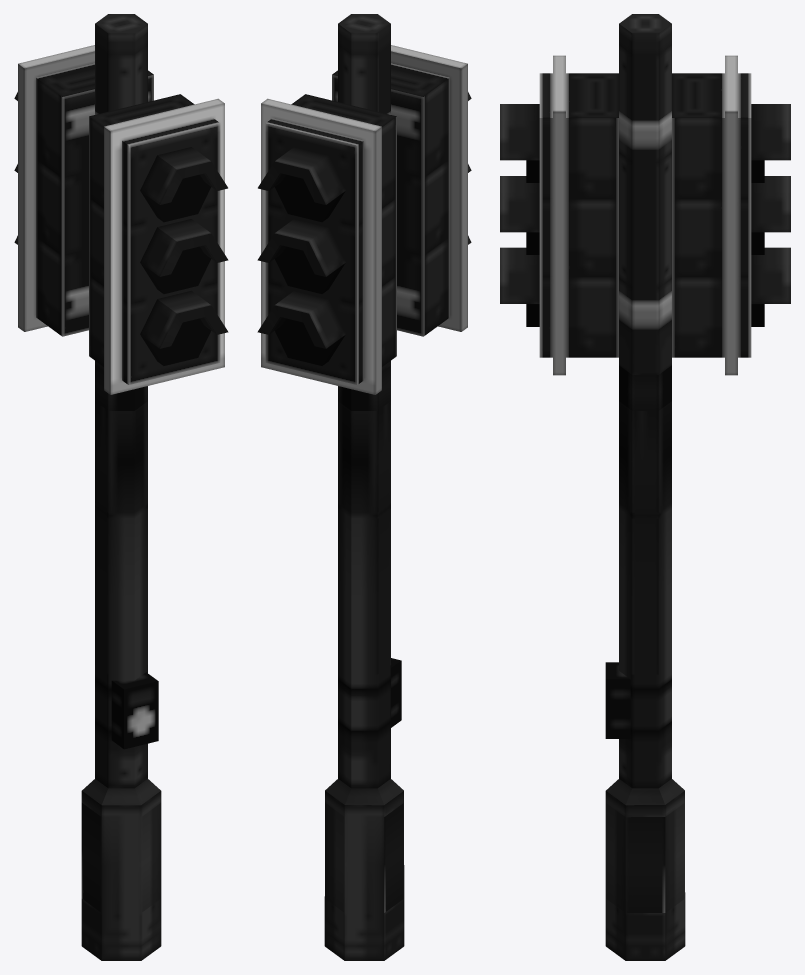
Rendered from TrafficLight_Double.fbx.
The picture shows the model from 3 angles, left to right: view 1: azimuth 30°, elevation 25°; view 2: azimuth 150°, elevation 25°; view 3: azimuth 270°, elevation 25°; orthographic projection.
Parts seen in each view (by area): view 1: TrafficLight_Double; view 2: TrafficLight_Double; view 3: TrafficLight_Double.
Part boxes in pixels (x1,y1,x2,y2): TrafficLight_Double: (14,14,228,960); TrafficLight_Double: (257,14,471,960); TrafficLight_Double: (500,14,790,960).
Bounding box in the file's own units: 5 × 38.5 × 11.
